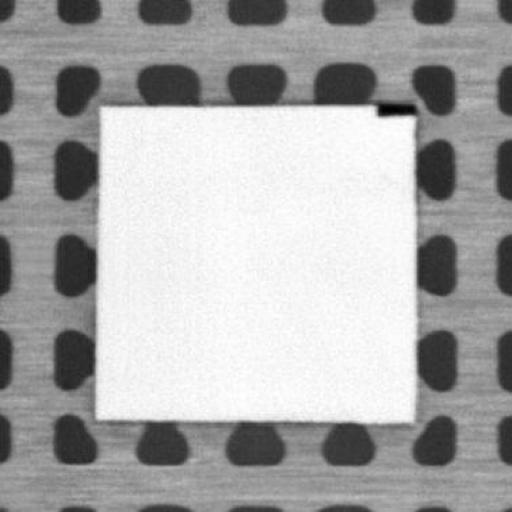DIE_BROKEN: (371, 99, 419, 116)
